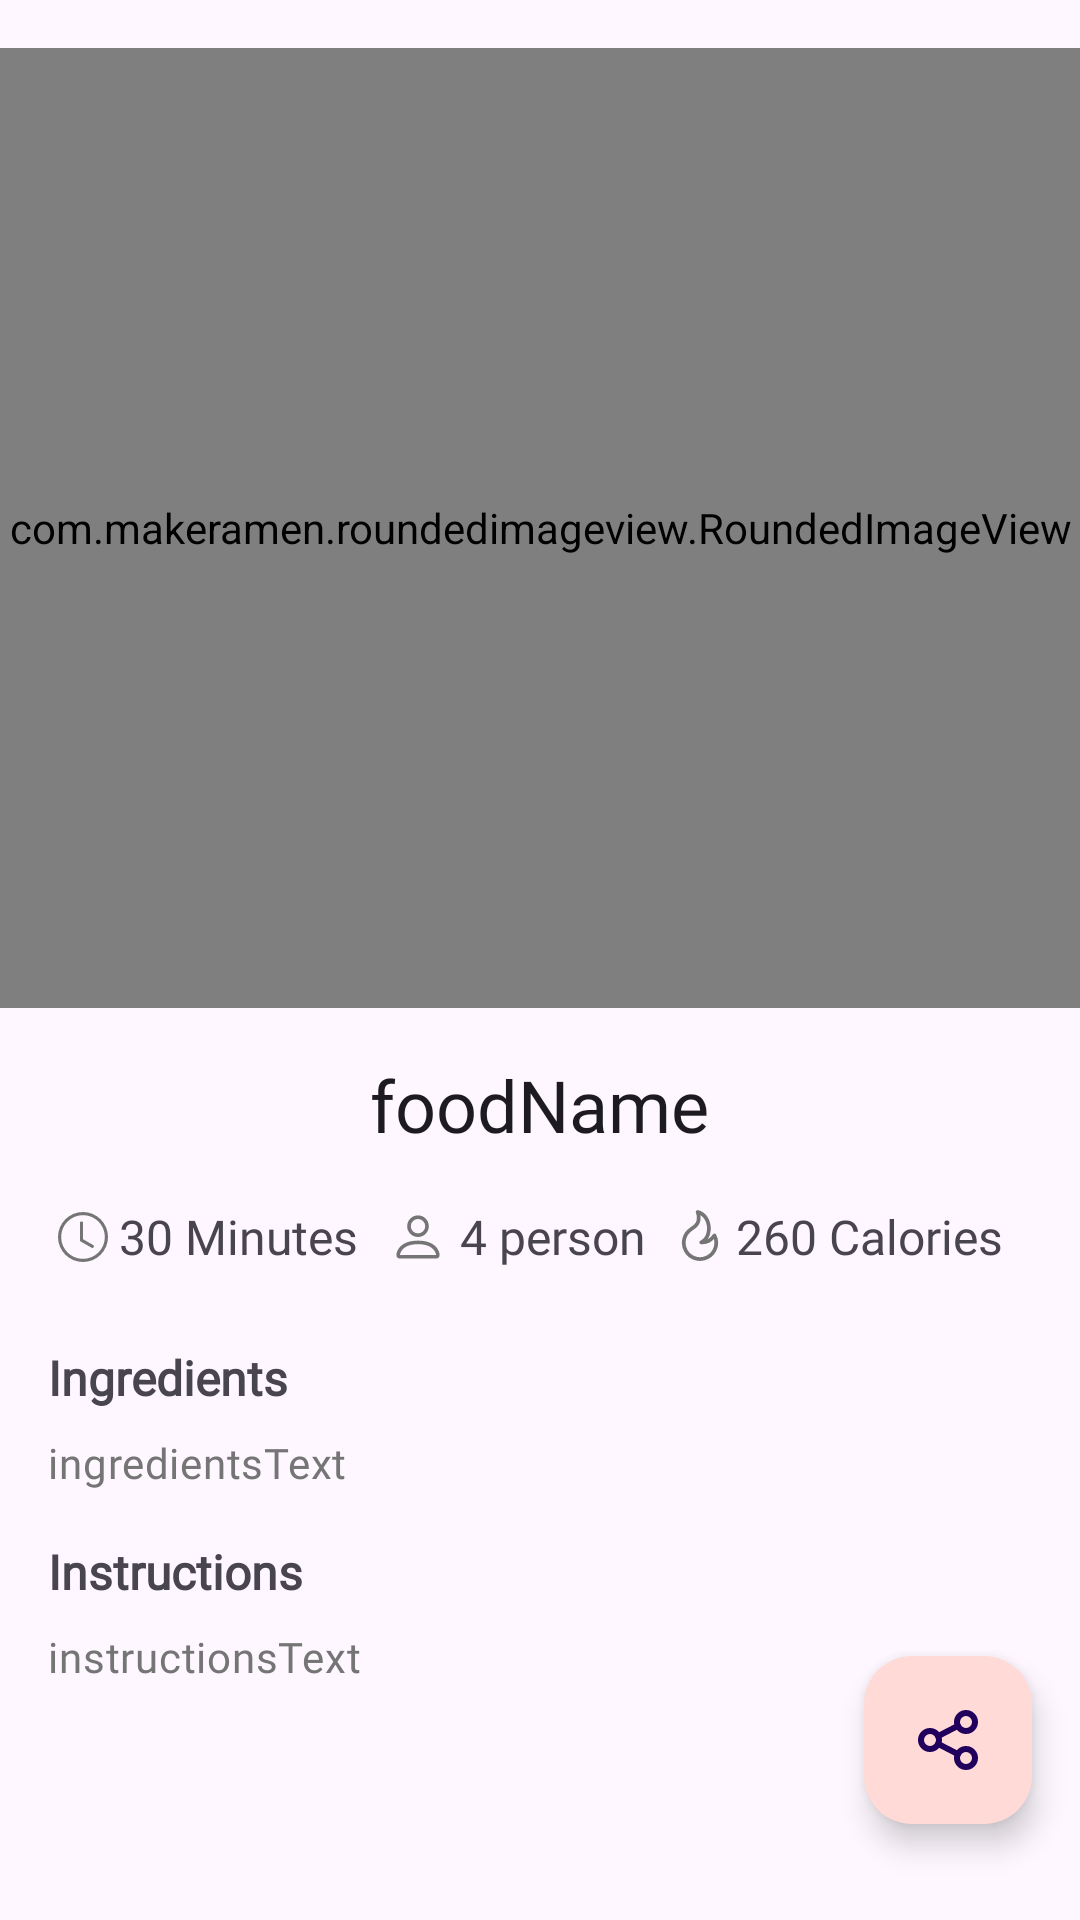

Icons on this 1080*1920 Android screen, each with its box as (x1, y1, x2, y2):
clock: (58, 1212, 108, 1262)
Share: (864, 1656, 1032, 1824)
